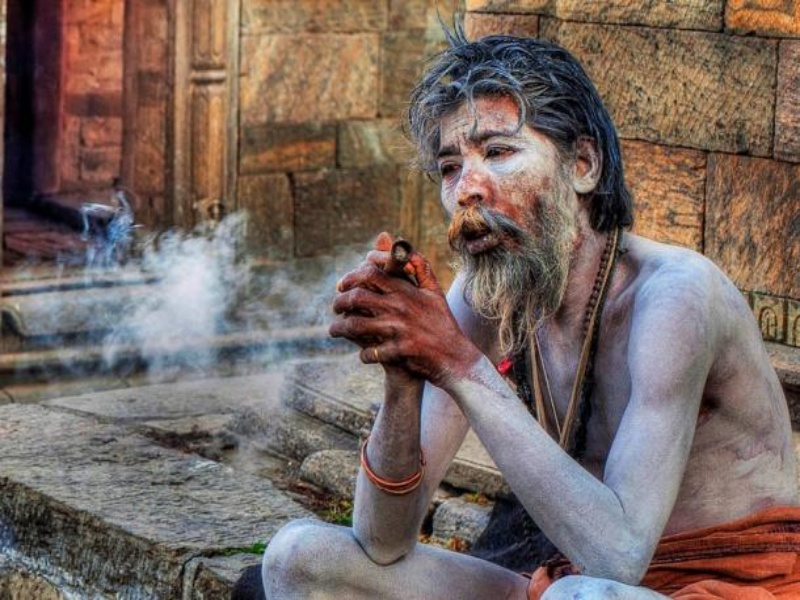smoke: (34, 226, 346, 379)
